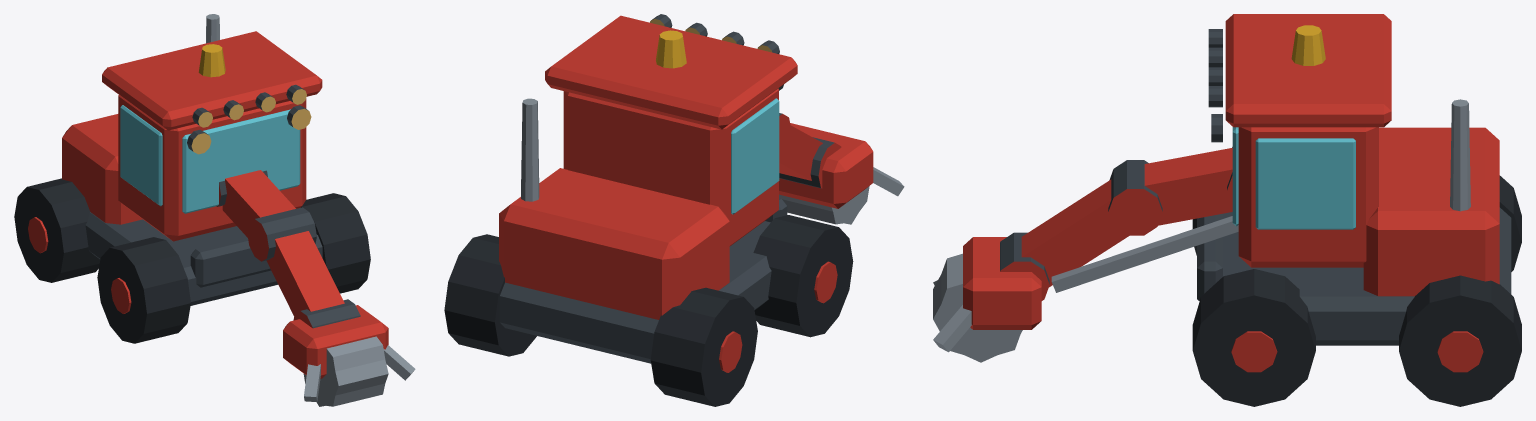
File: machine_mega.glb
The picture shows the model from 3 angles, left to right: view 1: azimuth 30°, elevation 25°; view 2: azimuth 150°, elevation 25°; view 3: azimuth 270°, elevation 25°; orthographic projection. The views are drawn at different scales.
Visible parts, largest first — view 1: part_001_machine_mega; view 2: part_001_machine_mega; view 3: part_001_machine_mega.
Boxes of the visible parts, left/top/right/bottom form: part_001_machine_mega: left=14, top=14, right=415, bottom=406; part_001_machine_mega: left=444, top=14, right=904, bottom=406; part_001_machine_mega: left=933, top=14, right=1521, bottom=406.
Bounding box in the file's own units: 2.74 × 2.93 × 4.94.
